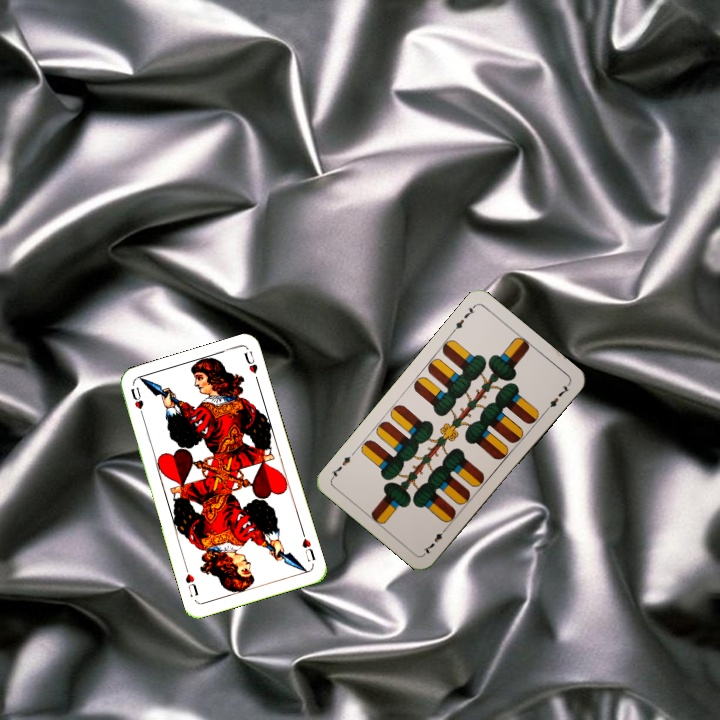E7: (419, 523, 450, 557), (448, 301, 478, 335)
HU: (127, 383, 147, 422), (298, 528, 318, 564)
